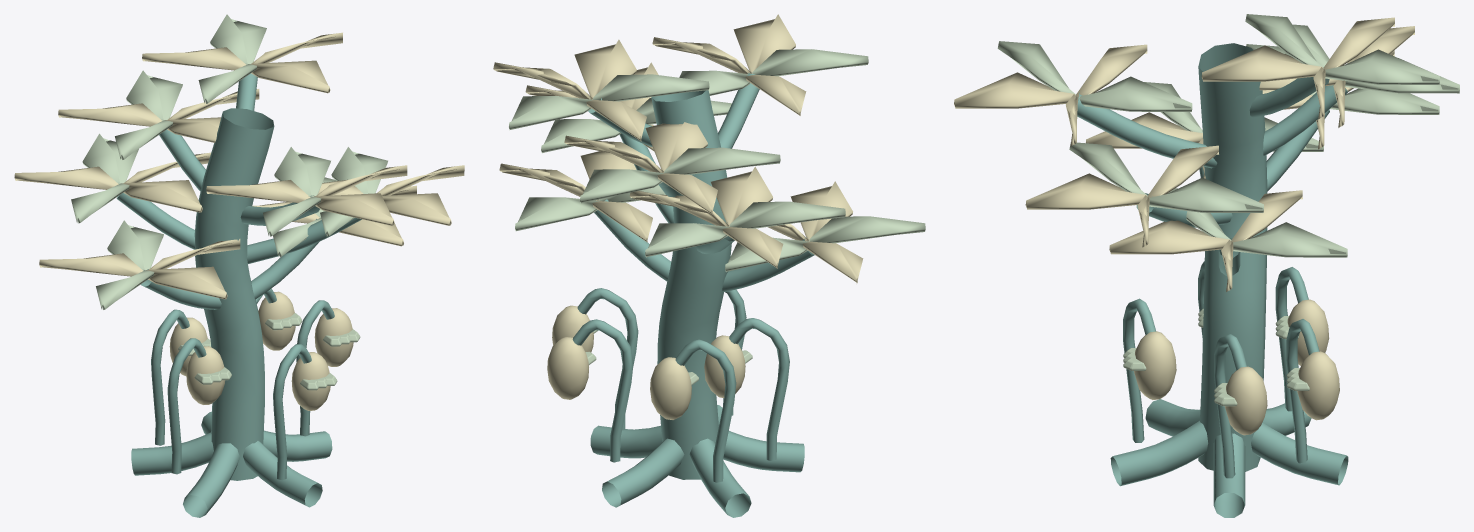
Rendered from bio_canopy_tree_08_far.glb.
3 renders of one model, left to right at view 1: azimuth 30°, elevation 25°; view 2: azimuth 150°, elevation 25°; view 3: azimuth 270°, elevation 25°, orthographic. The views are drawn at different scales.
Visible parts, largest first — view 1: Buttressed trunk, Broad canopy leaf.010, Broad canopy leaf.020, Broad canopy leaf.015, Broad canopy leaf.005, Broad canopy leaf.030, Broad canopy leaf.025, Broad canopy leaf.016, Broad canopy leaf.011, Broad canopy leaf.031, Broad canopy leaf.021, Broad canopy leaf.006 (+12 smaller); view 2: Buttressed trunk, Broad canopy leaf.010, Broad canopy leaf.015, Broad canopy leaf.005, Broad canopy leaf.030, Broad canopy leaf.031, Broad canopy leaf.006, Broad canopy leaf.016, Broad canopy leaf.021, Broad canopy leaf.011, Broad canopy leaf, Broad canopy leaf.020 (+11 smaller); view 3: Buttressed trunk, Broad canopy leaf.015, Broad canopy leaf.025, Broad canopy leaf.010, Broad canopy leaf, Broad canopy leaf.016, Broad canopy leaf.026, Broad canopy leaf.011, Broad canopy leaf.001, Pendant spore capsule.003, Pendant spore capsule, Pendant spore capsule.002 (+10 smaller).
Boxes of the visible parts, left/top/right/bottom form: Buttressed trunk: left=116, top=73, right=361, bottom=517; Broad canopy leaf.010: left=206, top=165, right=407, bottom=225; Broad canopy leaf.020: left=39, top=239, right=240, bottom=299; Broad canopy leaf.015: left=142, top=32, right=342, bottom=93; Broad canopy leaf.005: left=14, top=152, right=210, bottom=212; Broad canopy leaf.030: left=58, top=89, right=259, bottom=142; Broad canopy leaf.025: left=318, top=165, right=464, bottom=225; Broad canopy leaf.016: left=198, top=14, right=266, bottom=103; Broad canopy leaf.011: left=263, top=147, right=330, bottom=236; Broad canopy leaf.031: left=115, top=70, right=182, bottom=159; Broad canopy leaf.021: left=96, top=220, right=163, bottom=309; Broad canopy leaf.006: left=71, top=133, right=138, bottom=223; Buttressed trunk: left=588, top=73, right=814, bottom=517; Broad canopy leaf.010: left=652, top=14, right=806, bottom=115; Broad canopy leaf.015: left=493, top=39, right=646, bottom=141; Broad canopy leaf.005: left=629, top=166, right=783, bottom=268; Broad canopy leaf.030: left=564, top=122, right=717, bottom=214; Broad canopy leaf.031: left=580, top=147, right=780, bottom=203; Broad canopy leaf.006: left=645, top=201, right=845, bottom=257; Broad canopy leaf.016: left=509, top=74, right=709, bottom=130; Broad canopy leaf.021: left=725, top=216, right=925, bottom=271; Broad canopy leaf.011: left=679, top=49, right=868, bottom=95; Broad canopy leaf: left=499, top=151, right=652, bottom=242; Broad canopy leaf.020: left=768, top=181, right=863, bottom=283; Buttressed trunk: left=1077, top=43, right=1348, bottom=517; Broad canopy leaf.015: left=1201, top=17, right=1394, bottom=119; Broad canopy leaf.025: left=1025, top=145, right=1218, bottom=247; Broad canopy leaf.010: left=954, top=44, right=1147, bottom=146; Broad canopy leaf: left=1109, top=190, right=1302, bottom=291; Broad canopy leaf.016: left=1245, top=14, right=1439, bottom=84; Broad canopy leaf.026: left=1069, top=142, right=1263, bottom=212; Broad canopy leaf.011: left=997, top=41, right=1192, bottom=111; Broad canopy leaf.001: left=1169, top=188, right=1347, bottom=257; Pendant spore capsule.003: left=1297, top=351, right=1339, bottom=420; Pendant spore capsule: left=1225, top=366, right=1267, bottom=435; Pendant spore capsule.002: left=1134, top=331, right=1176, bottom=399.
Bounding box in the file's own units: 2.97 × 2.99 × 3.05.
